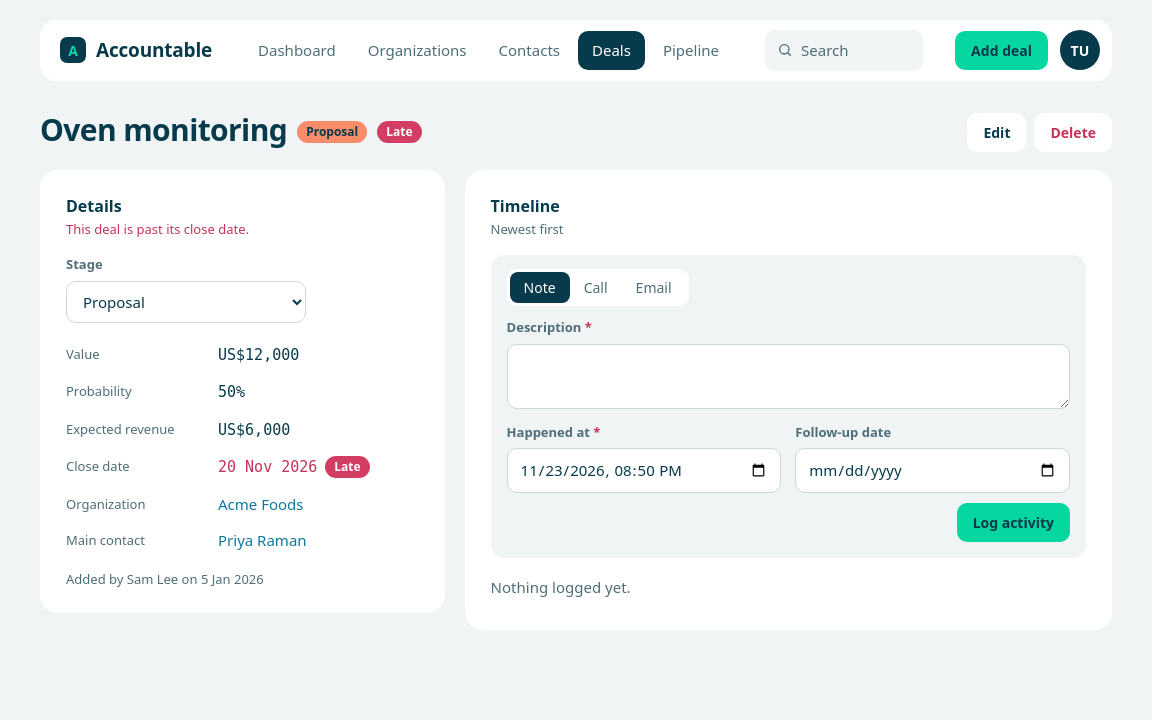
Test: picking a stage moves the deal to the top of that stage
This screenshot has width=1152, height=720.
Expected: the heading "Oven monitoring" is shown, [40, 112, 287, 146]
Select "Won" in the dropdown labelled "Stage" at (186, 302), box [66, 280, 306, 322]
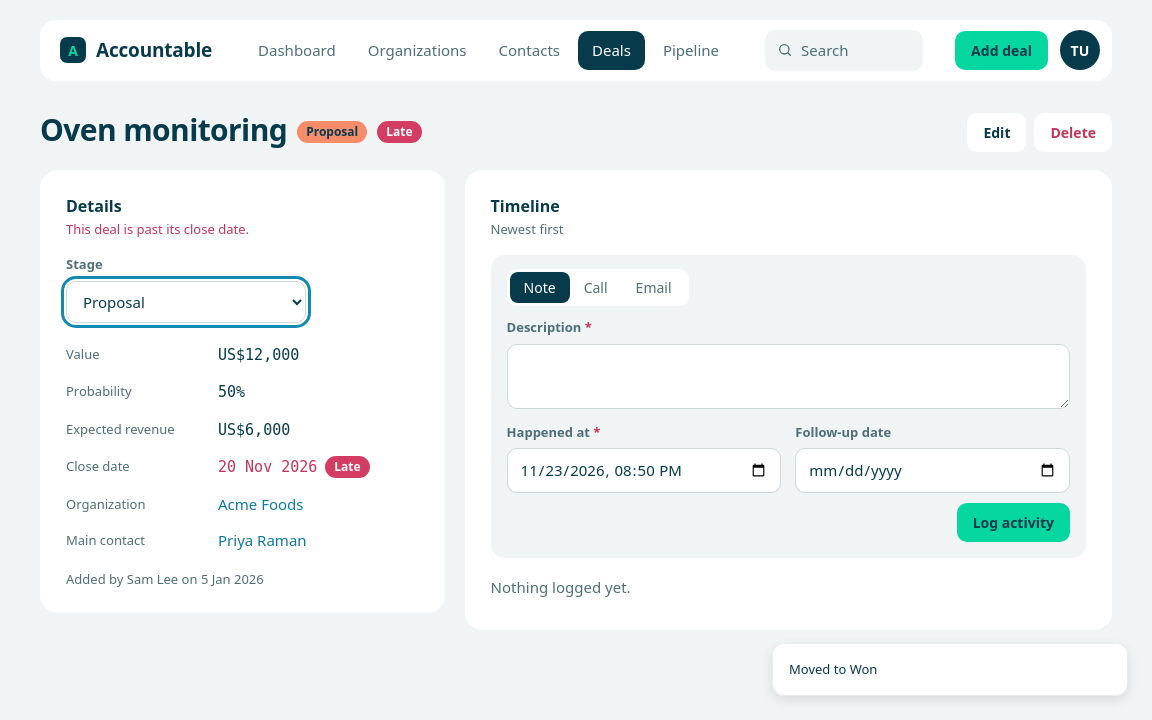
Expected: the text "Moved to Won" is shown, [789, 660, 877, 679]
